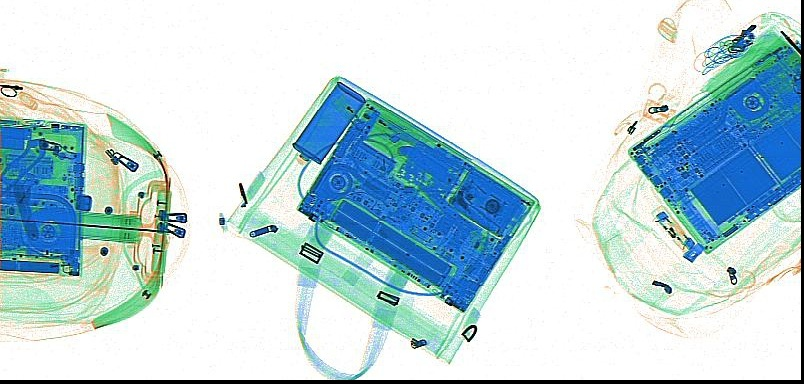knife: (397, 145, 457, 185), (13, 184, 38, 239)
lighter: (652, 205, 694, 249), (652, 209, 688, 250)
zippooil: (292, 81, 365, 164)
